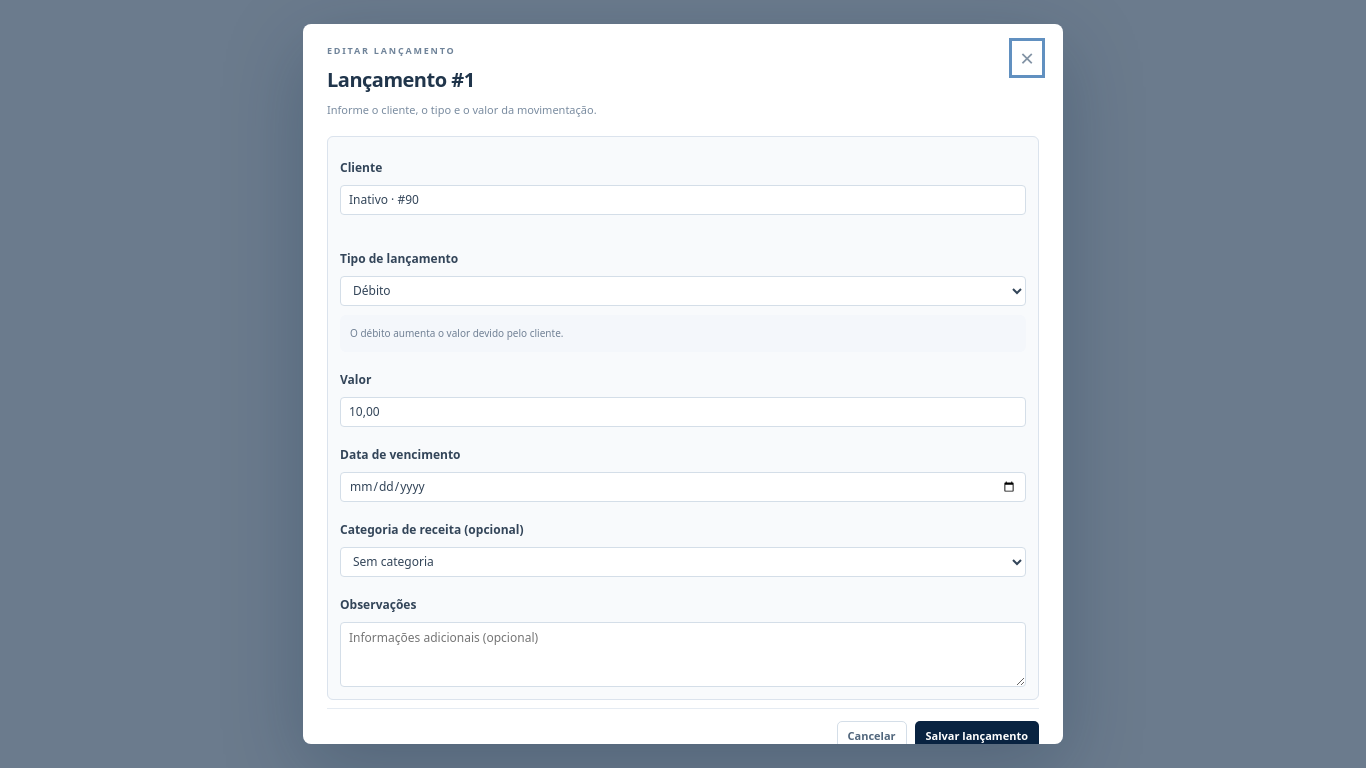
Test: retains the existing inactive customer when editing, while excluding others on creation
The image size is (1366, 768).
Focus the dropdown labelled "Cliente" at (683,200), box [340,185,1026,215]
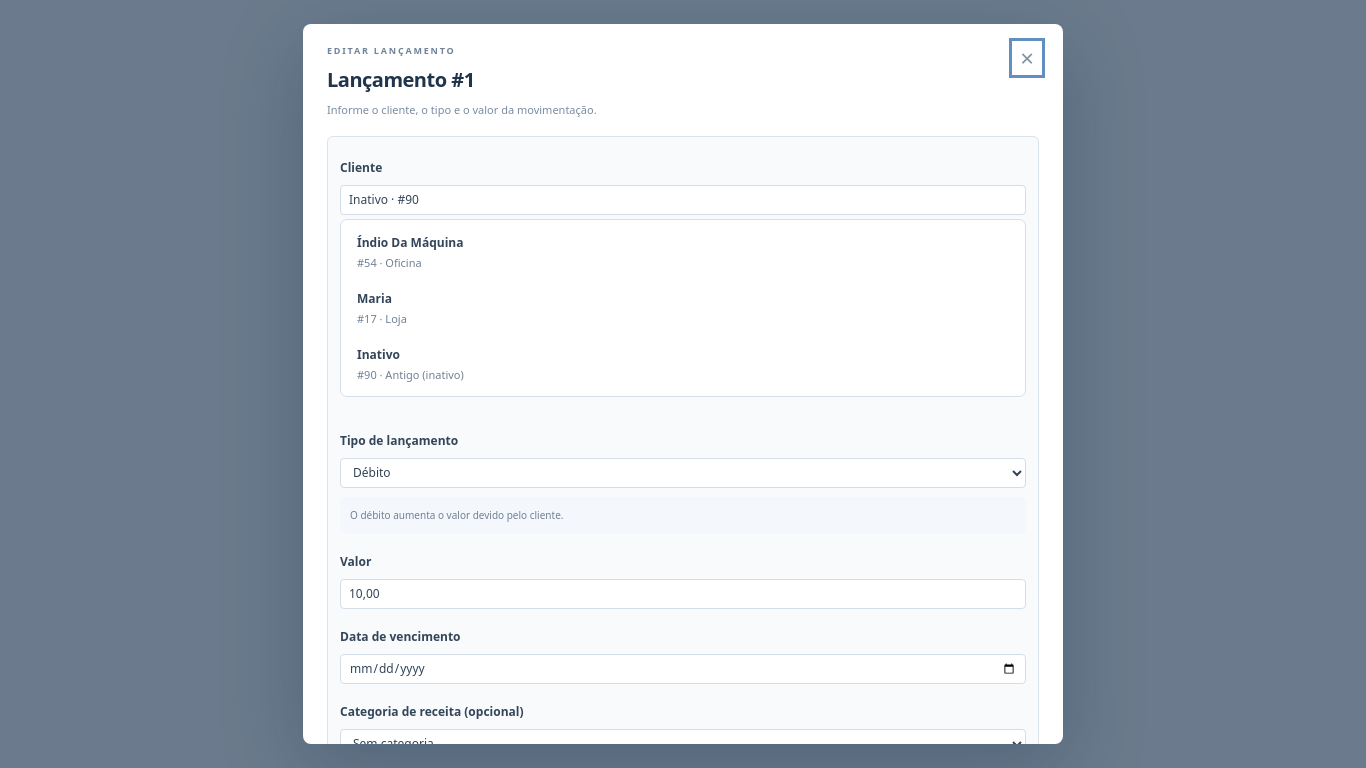
Now the option "Inativo #90 · Antigo (inativo)" is shown, box [357,346,464,382]
